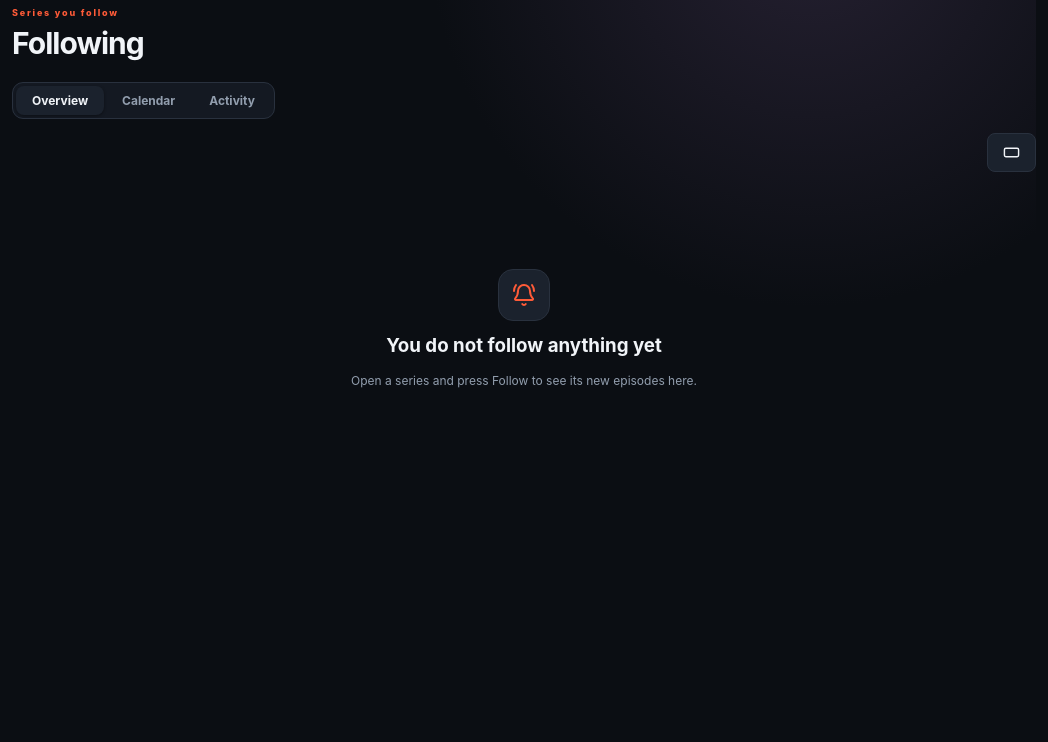
Scenario: FollowingPage › places an episode on its day in the month grid and lists it for the chosen day
Click the tab "Calendar" at (149, 100), box [106,86,191,115]
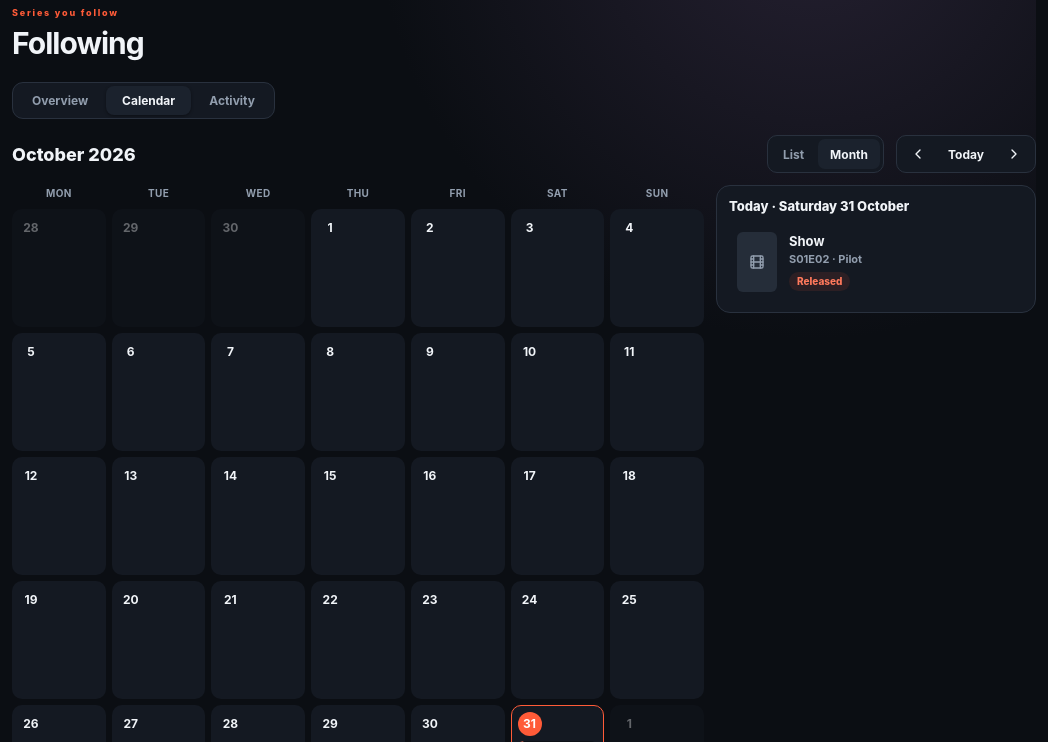
Now the heading "Today · Saturday 31 October" is shown, box [729,198,909,214]
Now the text "S01E02 · Pilot" is shown, box [789,252,862,266]
Now the text with class "state-pill" reads "Released", box [797,275,842,287]
